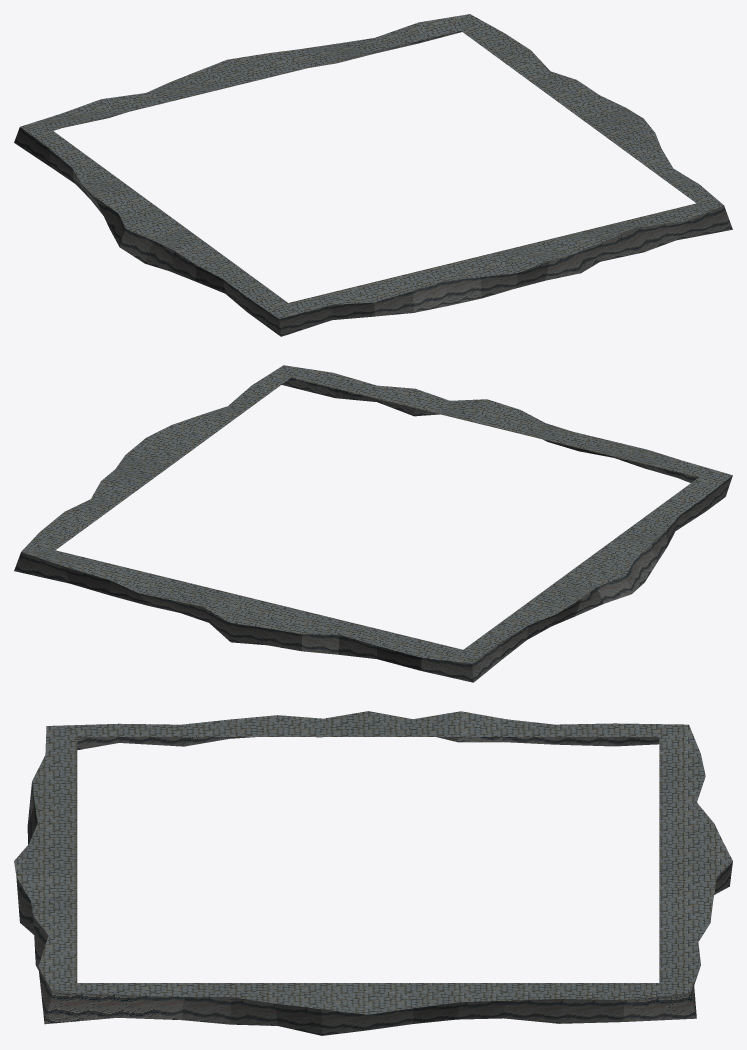
Rendered from entorno_18.glb.
The picture shows the model from 3 angles, top to bottom: view 1: azimuth 30°, elevation 25°; view 2: azimuth 150°, elevation 25°; view 3: azimuth 270°, elevation 25°; orthographic projection. The views are drawn at different scales.
Parts seen in each view (by area): view 1: pedreira_entorno_18; view 2: pedreira_entorno_18; view 3: pedreira_entorno_18.
Part boxes in pixels (left/top/right/bottom): pedreira_entorno_18: left=14, top=14, right=732, bottom=336; pedreira_entorno_18: left=14, top=365, right=732, bottom=682; pedreira_entorno_18: left=14, top=711, right=732, bottom=1035.
Bounding box in the file's own units: 22.6 × 1.07 × 22.49.
Materials: 2 (2 with a texture image).
